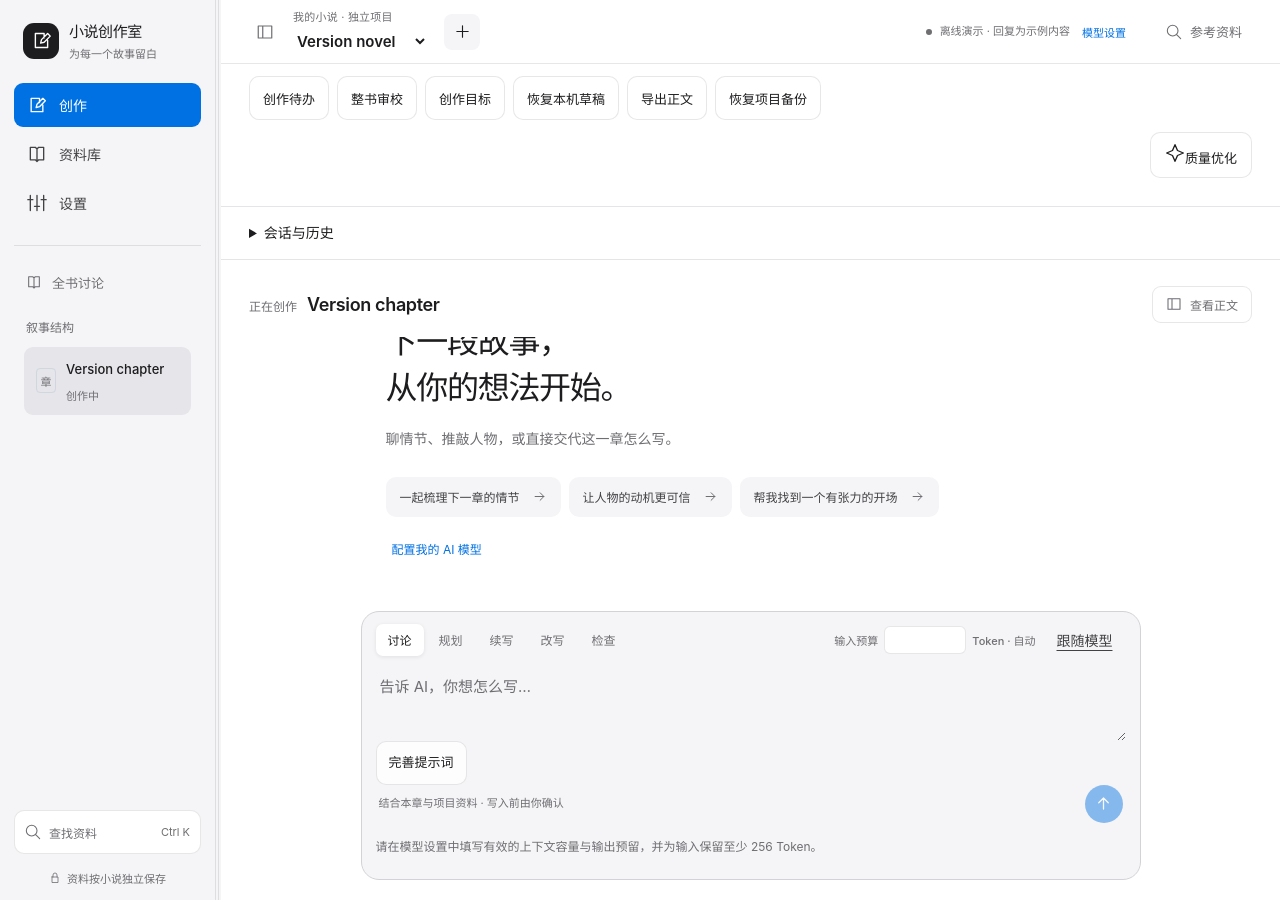
Scenario: chapter version pagination › shows a generic initial error and retries the first page
(page scrolled)
Check: the text box named "给 AI 的消息" is shown, box [376,658,1126,741]
Click the button "查看正文": (1202, 304) [1152,286,1252,323]
(page scrolled)
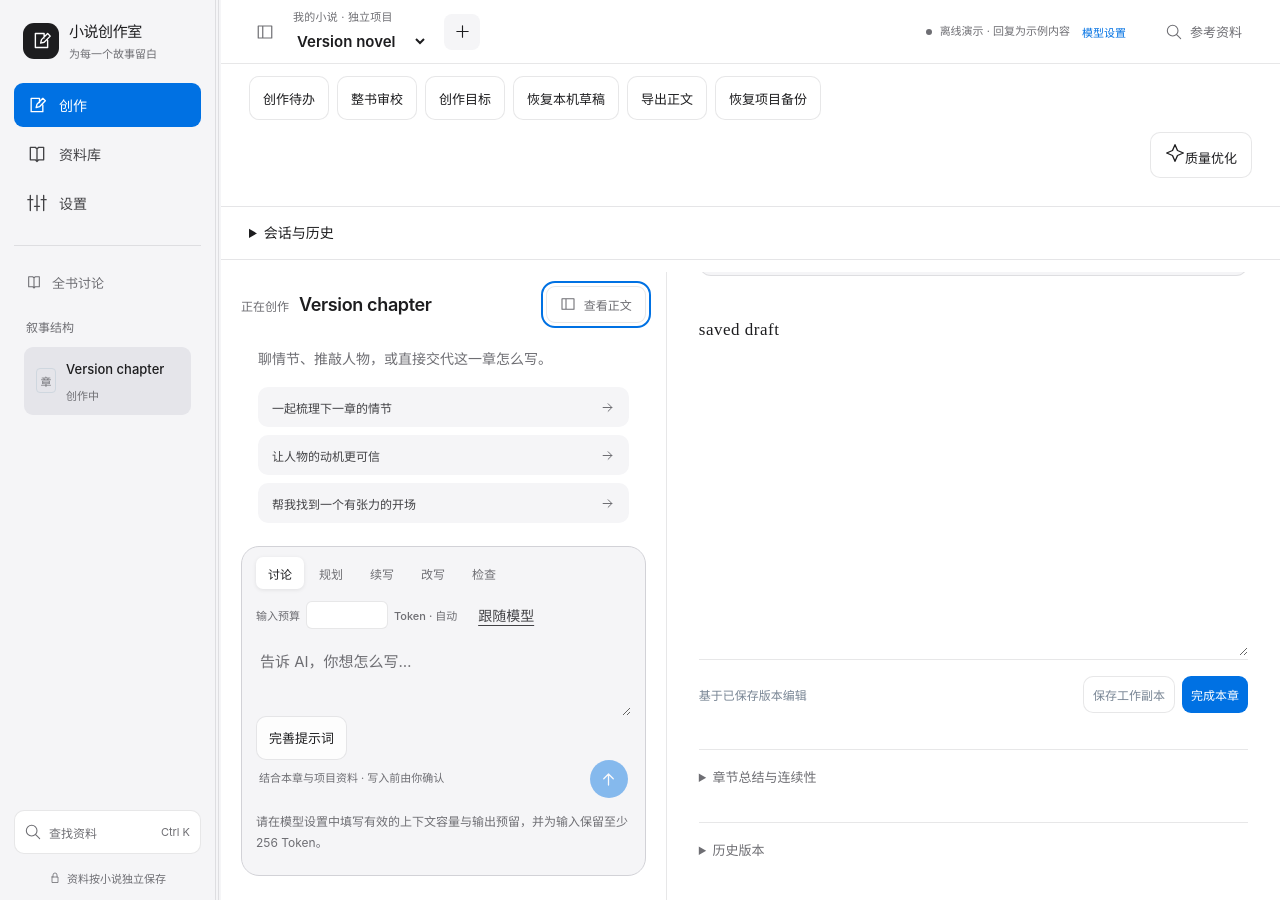
Click the heading "历史版本": (738, 850) [712,842,764,858]
(page scrolled)
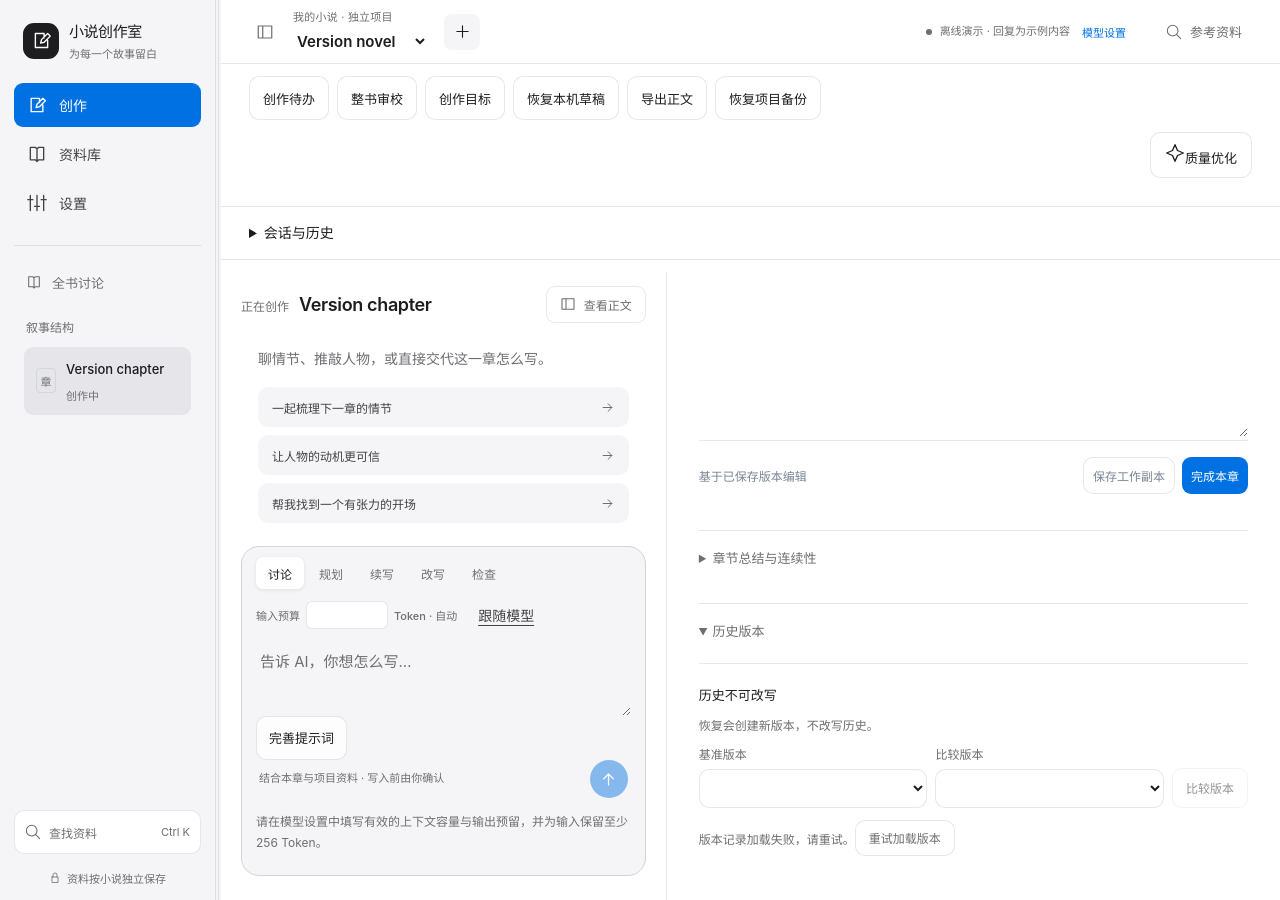
Check: the message "版本记录加载失败，请重试。 重试加载版本" does not show "sensitive backend detail", box [699,820,955,856]
Check: the message "版本记录加载失败，请重试。 重试加载版本" is shown, box [699,820,955,856]
Click the button "重试加载版本": (905, 838) [855,820,955,856]
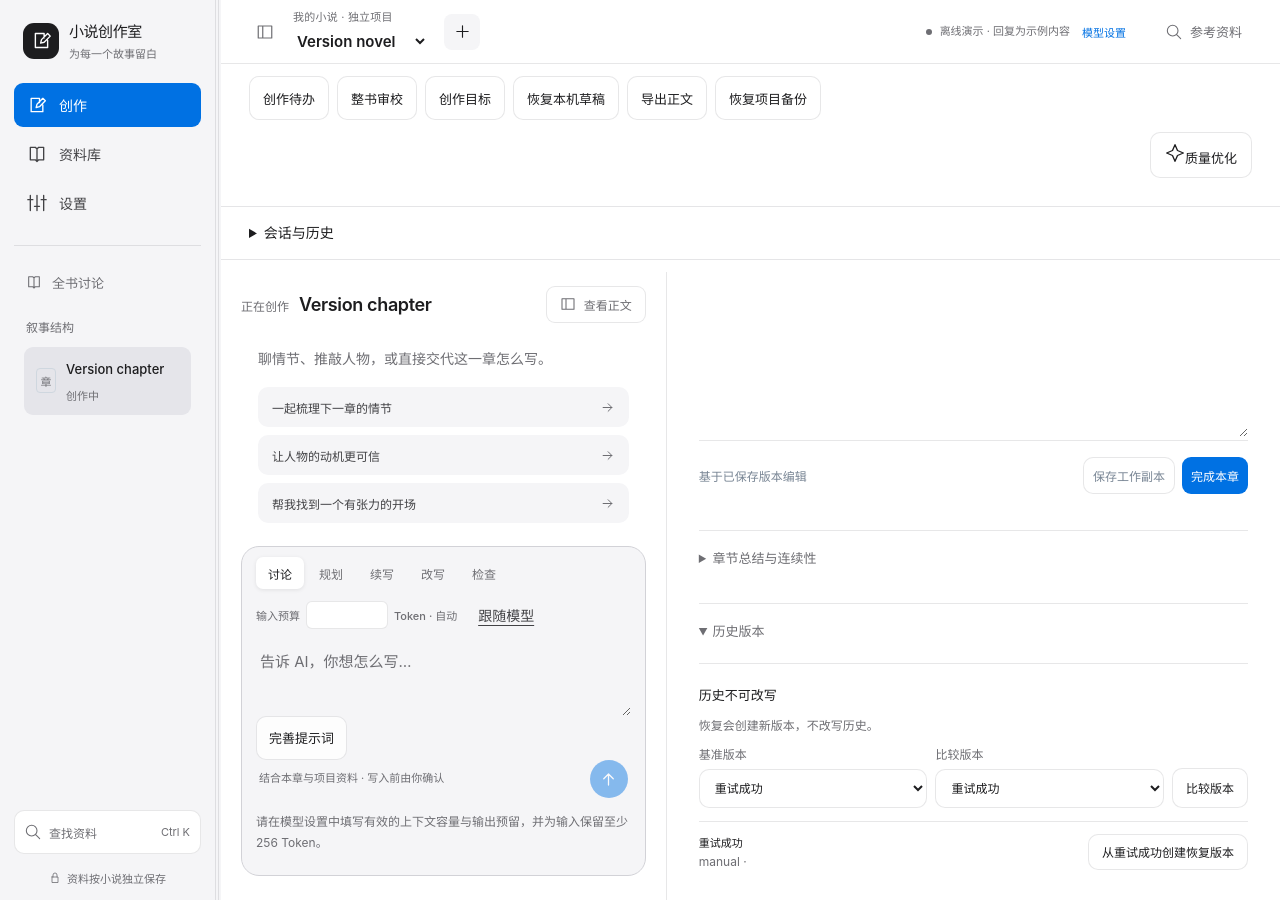
Check: the text "重试成功" is shown, box [699,834,747,850]
